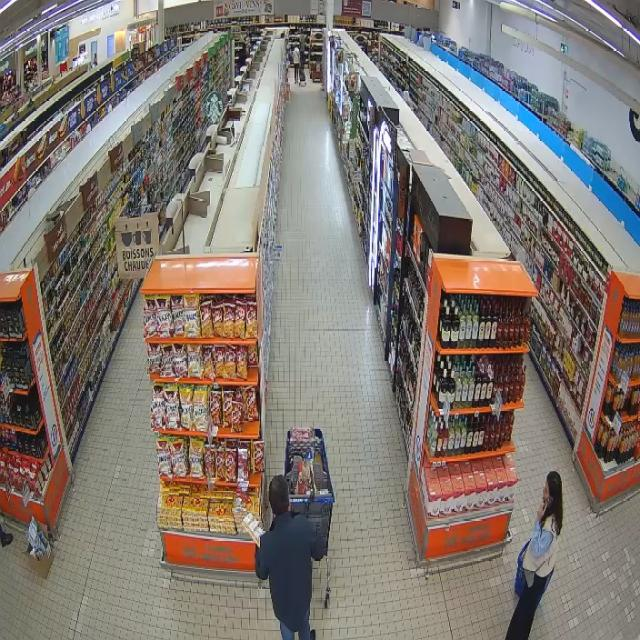article: (242, 512, 266, 548)
bags: (523, 568, 535, 588)
hands: (537, 503, 546, 522)
person: (256, 475, 326, 639), (506, 472, 562, 639)
